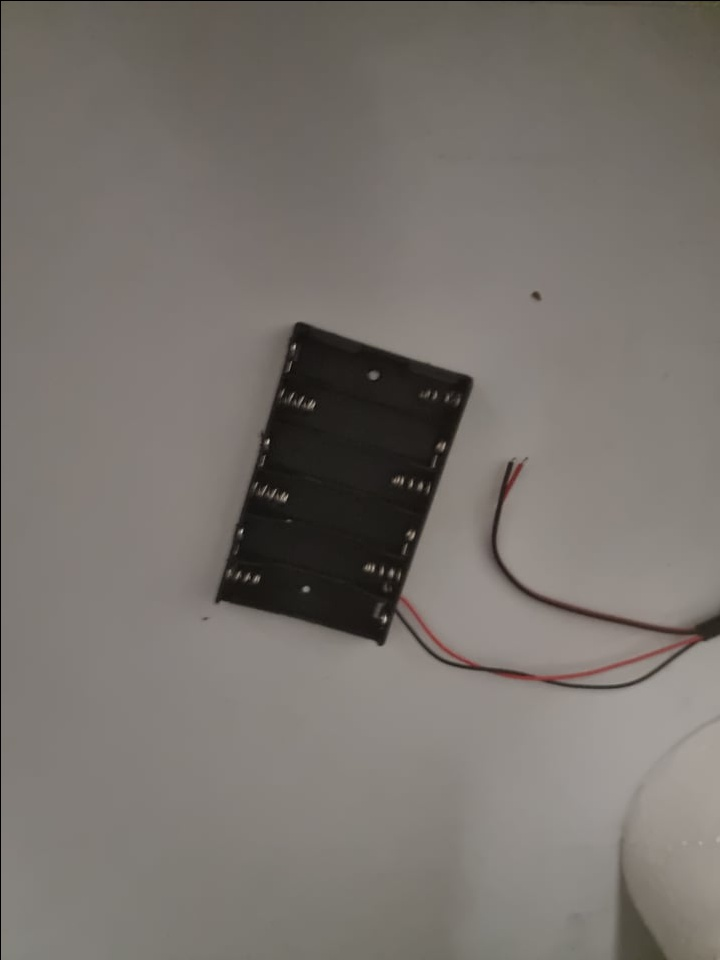BATTERY BOX: (206, 312, 471, 650)
